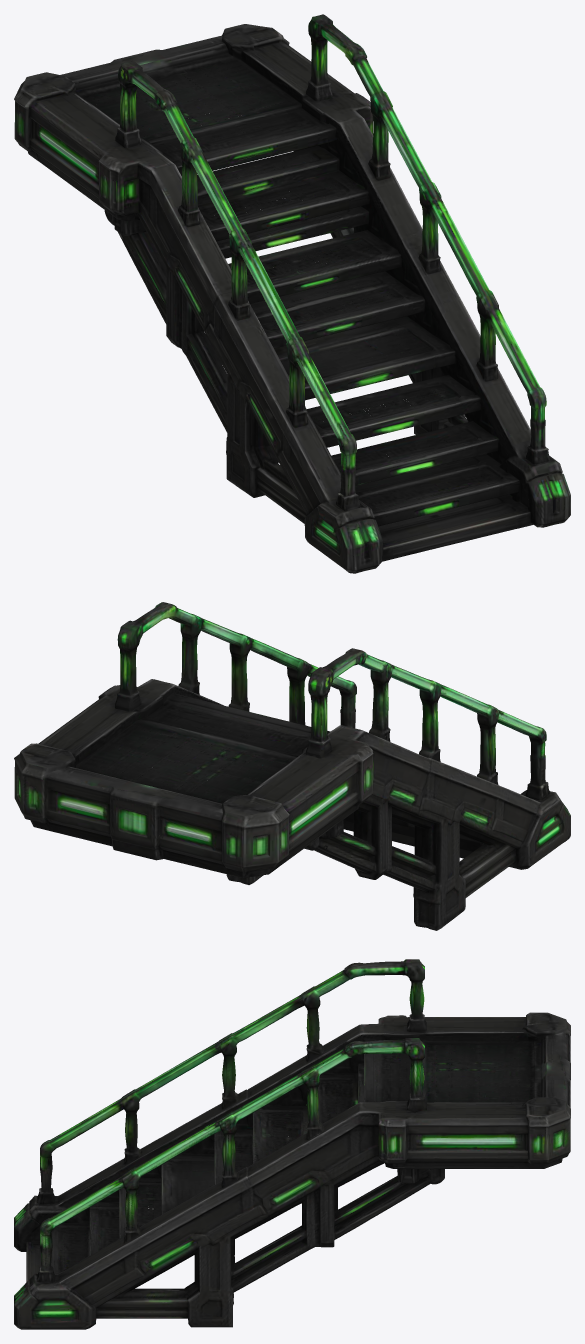
The model's file is staircase-to-catwalk.glb.
3 views of the same model, one above another, from view 1: azimuth 30°, elevation 25°; view 2: azimuth 150°, elevation 25°; view 3: azimuth 270°, elevation 25° (orthographic). The views are drawn at different scales.
Parts seen in each view (by area): view 1: material; view 2: material; view 3: material.
Boxes of the visible parts, x1,y1,x2,y2 form: material: [14, 14, 570, 573]; material: [14, 602, 570, 930]; material: [14, 959, 570, 1329].
Bounding box in the file's own units: 0.4656 × 0.5647 × 1.
Materials: 1 (1 with a texture image).
